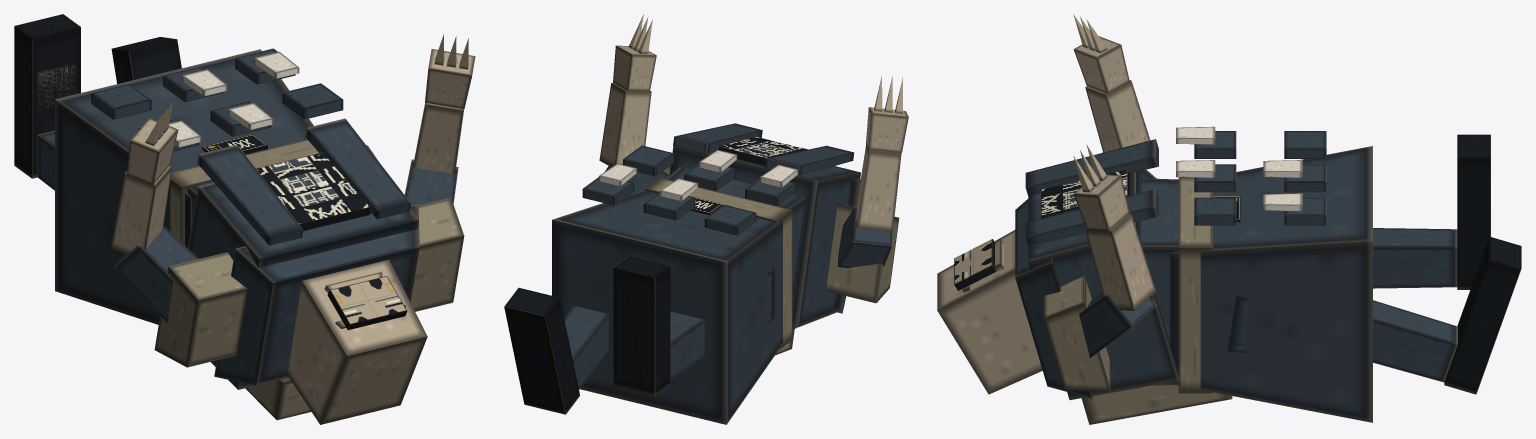
The model's file is consenth_hurt.obj.
The picture shows the model from 3 angles, left to right: view 1: azimuth 30°, elevation 25°; view 2: azimuth 150°, elevation 25°; view 3: azimuth 270°, elevation 25°; orthographic projection. The views are drawn at different scales.
Visible parts, largest first — view 1: consenth_hurt; view 2: consenth_hurt; view 3: consenth_hurt.
Boxes of the visible parts, <box> form: consenth_hurt: <box>14,14,475,424</box>; consenth_hurt: <box>504,14,908,424</box>; consenth_hurt: <box>937,14,1521,424</box>.
Size of the model in its own units: 0.6965 by 0.6684 by 1.07.
Materials: 1 (1 with a texture image).
